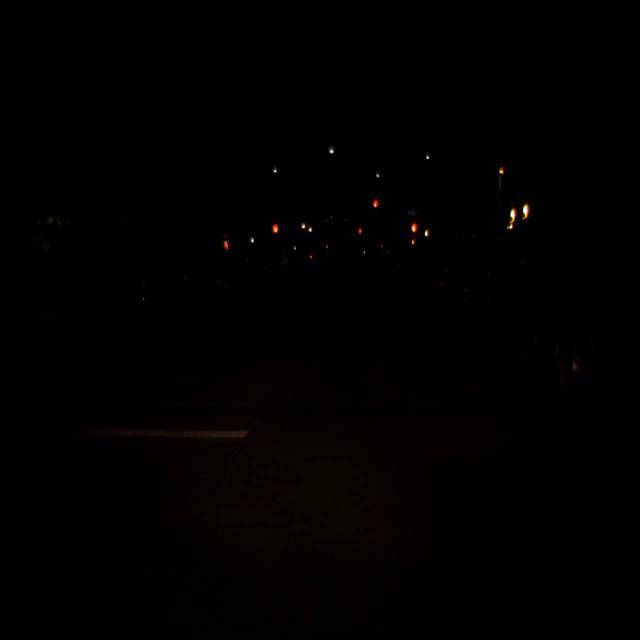stop: (410, 222, 418, 243), (271, 224, 279, 242), (373, 200, 378, 214), (358, 229, 362, 235)
stop traffic light: (410, 222, 418, 243), (271, 224, 279, 242), (373, 200, 378, 214), (358, 229, 362, 235)
